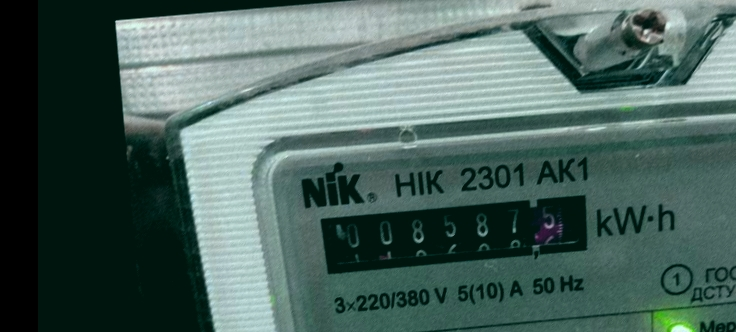0: (343, 220, 362, 250), (377, 218, 396, 248)
5: (540, 203, 559, 234), (440, 212, 460, 241)
7: (504, 205, 524, 237)
8: (472, 209, 492, 240), (409, 217, 427, 246)
screen: (301, 179, 609, 288)
